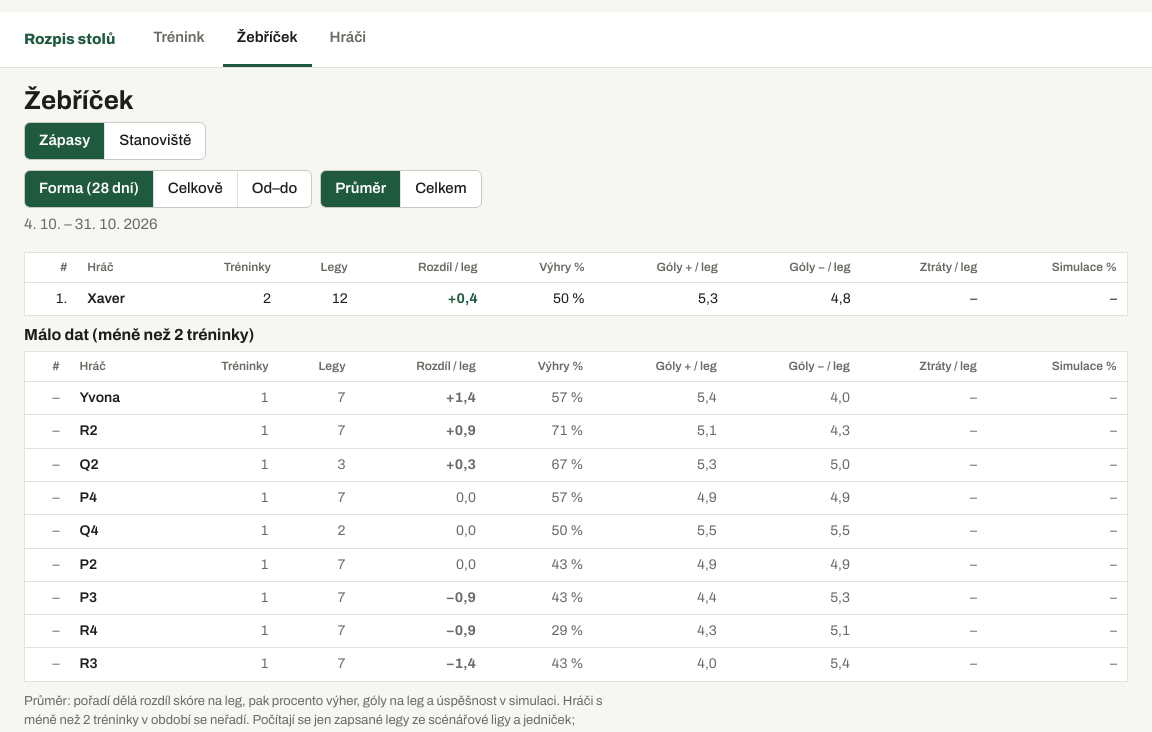
žebříček stanovišť › prázdné období
The width and height of the screenshot is (1152, 732).
Click the button "Stanoviště". click: {"x": 155, "y": 141}
box: left=105, top=123, right=205, bottom=159
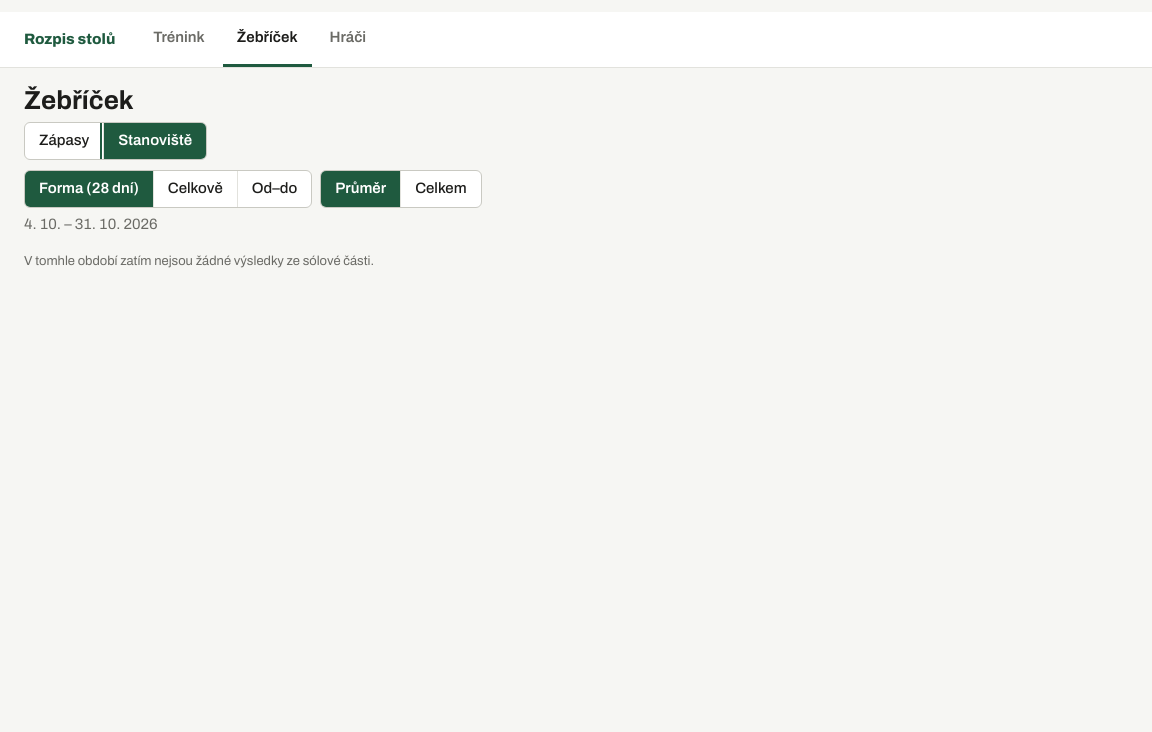
Check: the text "V tomhle období zatím nejsou žádné výsledky ze sólové části." is shown, box left=24, top=254, right=374, bottom=268
